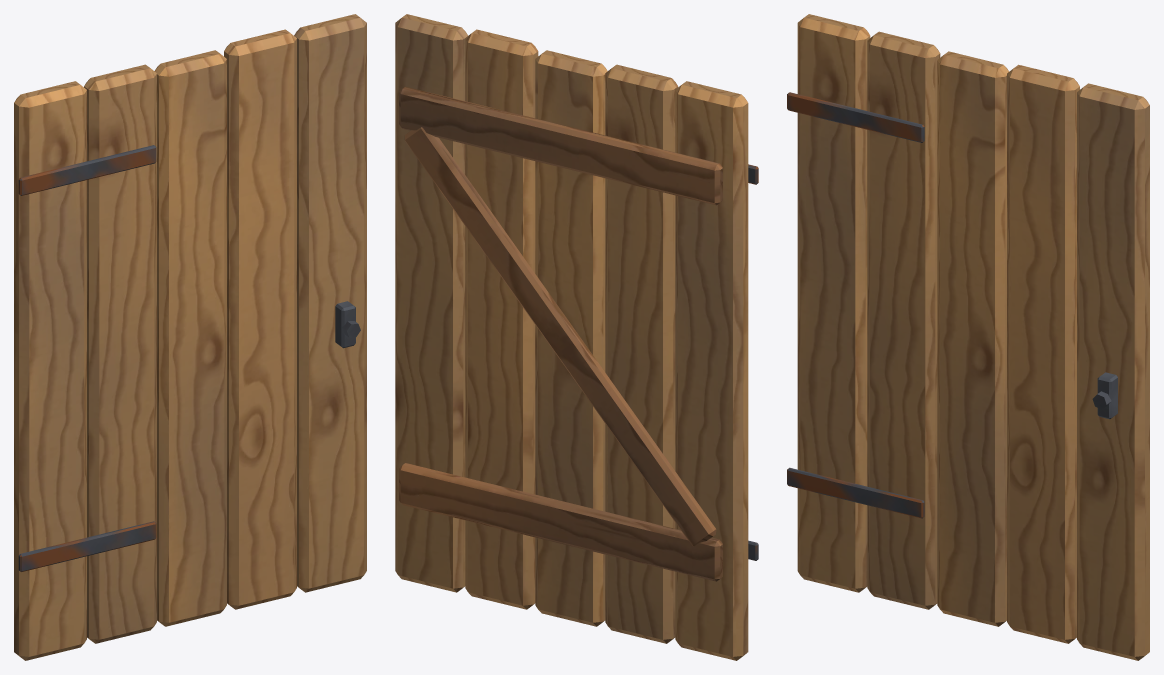
File: ahsap_kapi.glb
3 views of the same model, side by side, from view 1: azimuth 30°, elevation 25°; view 2: azimuth 150°, elevation 25°; view 3: azimuth 330°, elevation 25° (orthographic).
Visible parts, largest first — view 1: ahsap_kapi; view 2: ahsap_kapi; view 3: ahsap_kapi.
Part boxes in pixels (box(x1,y1,x2,y2)): ahsap_kapi: box(14, 14, 366, 660); ahsap_kapi: box(395, 14, 758, 660); ahsap_kapi: box(787, 14, 1149, 660).
Bounding box in the file's own units: 1.47 × 2.25 × 0.235.
Materials: 1 (1 with a texture image).
